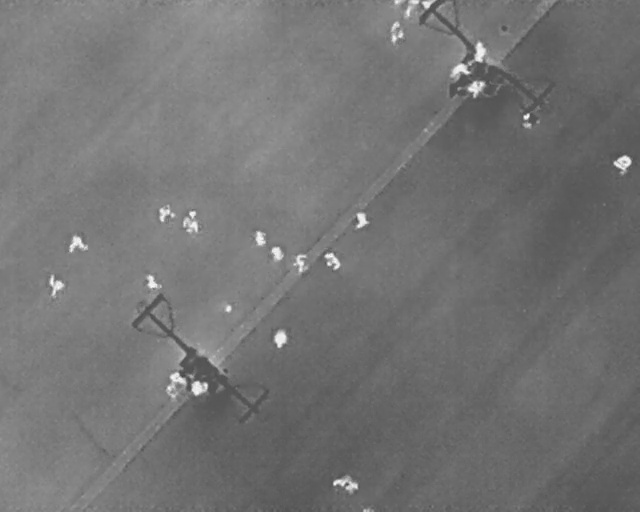Person: (443, 55, 474, 84), (288, 251, 313, 276), (321, 249, 344, 274), (67, 232, 88, 254), (330, 476, 358, 491), (48, 275, 66, 298), (182, 210, 199, 234), (388, 21, 404, 45), (613, 154, 632, 172), (144, 272, 161, 292), (467, 81, 487, 97), (354, 210, 370, 229), (273, 329, 288, 349), (159, 205, 175, 223), (521, 112, 539, 128), (168, 370, 187, 385), (268, 245, 285, 261), (474, 40, 486, 62), (402, 0, 418, 16), (192, 379, 207, 396), (255, 229, 267, 246), (223, 302, 234, 314), (422, 0, 435, 10), (166, 385, 176, 397)
